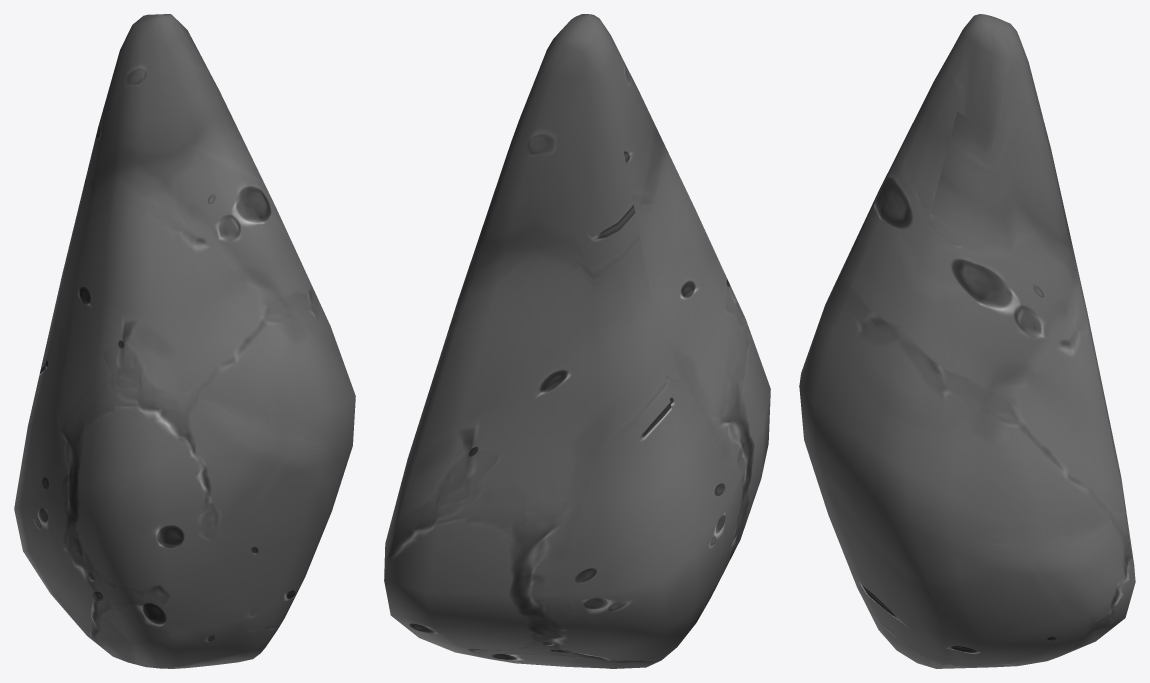
Rendered from SM_ENV_stone_12.fbx.
The picture shows the model from 3 angles, left to right: view 1: azimuth 30°, elevation 25°; view 2: azimuth 150°, elevation 25°; view 3: azimuth 270°, elevation 25°; orthographic projection. The views are drawn at different scales.
Parts seen in each view (by area): view 1: SM_ENV_stone_12_LOD0; view 2: SM_ENV_stone_12_LOD0; view 3: SM_ENV_stone_12_LOD0.
Part boxes in pixels (<box>): SM_ENV_stone_12_LOD0: <box>14,14,355,668</box>; SM_ENV_stone_12_LOD0: <box>384,14,770,668</box>; SM_ENV_stone_12_LOD0: <box>799,14,1135,668</box>.
Size of what is drawn, in the model's own units: 194 by 419 by 206.
